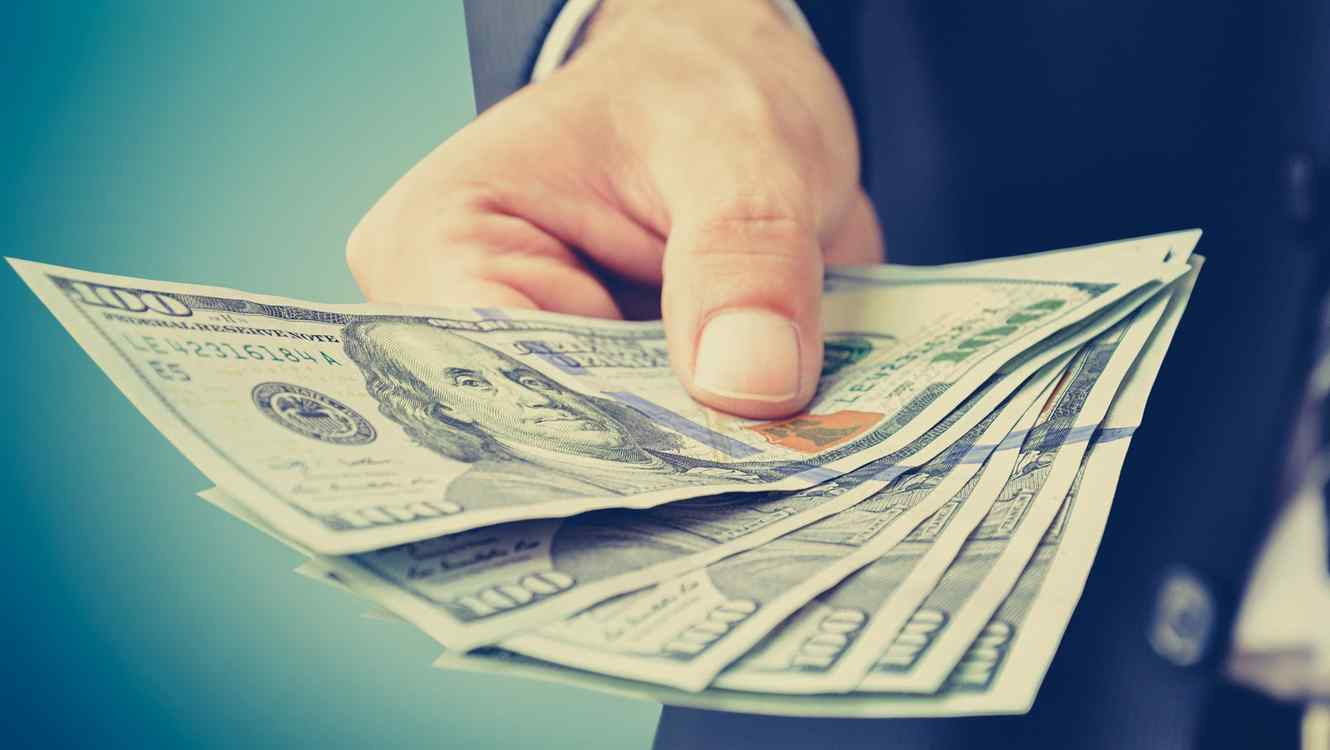billete: (7, 230, 1202, 715)
